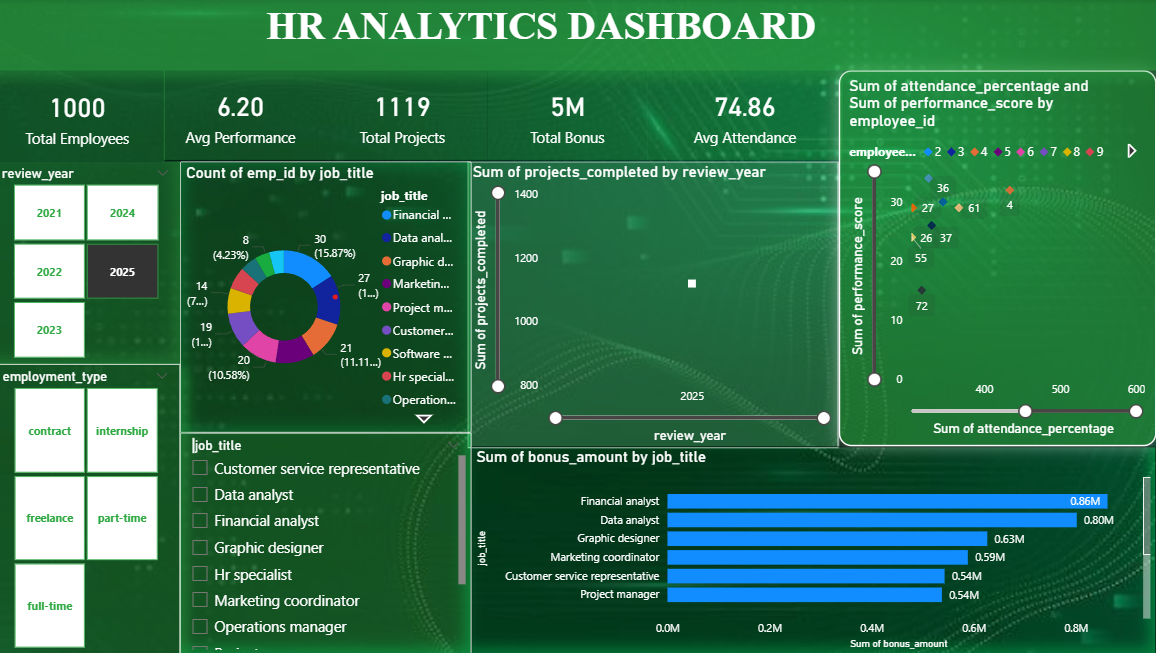

The page's visual inventory and layout, read from the dashboard file:
{"tool":"powerbi","page":{"name":"Page 1","canvas":[1280,720],"ordinal":0},"visuals":[{"type":"image","box":[9.6,0,1270.7,720.4],"z":0},{"type":"card","fields":{"Values":["employee_details.Avg Performance"]},"box":[190.7,78.2,168.8,98.8],"z":1000},{"type":"card","fields":{"Values":["employee_details.Total Projects"]},"box":[359.5,78.2,186.6,98.8],"z":2000},{"type":"card","fields":{"Values":["employee_details.Total Bonus"]},"box":[546.1,78.2,175.6,98.8],"z":3000},{"type":"card","fields":{"Values":["employee_details.Avg Attendance"]},"box":[721.8,78.2,214.1,98.8],"z":4000},{"type":"card","fields":{"Values":["employee_details.Total Employees"]},"box":[0,78.2,192.1,100.2],"z":5000},{"type":"lineChart","fields":{"Category":["performance_details.review_year"],"Y":["Sum(performance_details.projects_completed)"]},"box":[524.2,178.4,407.5,314.2],"z":6000},{"type":"clusteredBarChart","fields":{"Category":["employee_details.job_title"],"Y":["Sum(performance_details.bonus_amount)"]},"box":[528.3,491.3,752,229.2],"z":7000},{"type":"scatterChart","fields":{"X":["Sum(performance_details.attendance_percentage)"],"Y":["Sum(performance_details.performance_score)"],"Series":["employee_details.employee_id"]},"box":[931.7,78.2,348.5,413],"z":8000},{"type":"donutChart","fields":{"Category":["employee_details.job_title"],"Y":["CountNonNull(performance_details.emp_id)"]},"box":[208.6,178.4,319.7,297.8],"z":9000},{"type":"slicer","fields":{"Values":["performance_details.review_year"]},"box":[0,178.4,208.6,222.3],"z":10000},{"type":"slicer","fields":{"Values":["employee_details.job_title"]},"box":[208.6,476.2,319.7,244.3],"z":11000},{"type":"slicer","fields":{"Values":["employee_details.employment_type"]},"box":[0,400.7,208.6,319.7],"z":12000},{"type":"textbox","box":[0,0,1280.3,78.2],"z":13000}]}

Visuals, with their boxes in screenshot pixels (x1, y1, x2, y2), scaled from the page's 1280x720 canvas onto the 1156x653 screenshot:
image: box=[9, 0, 1155, 652]
card - employee_details.Avg Performance: box=[172, 71, 325, 161]
card - employee_details.Total Projects: box=[325, 71, 493, 161]
card - employee_details.Total Bonus: box=[493, 71, 652, 161]
card - employee_details.Avg Attendance: box=[652, 71, 845, 161]
card - employee_details.Total Employees: box=[0, 71, 173, 162]
lineChart - performance_details.review_year x Sum(performance_details.projects_completed): box=[473, 162, 841, 447]
clusteredBarChart - employee_details.job_title x Sum(performance_details.bonus_amount): box=[477, 446, 1155, 652]
scatterChart - Sum(performance_details.attendance_percentage) x Sum(performance_details.performance_score): box=[841, 71, 1155, 445]
donutChart - employee_details.job_title x CountNonNull(performance_details.emp_id): box=[188, 162, 477, 432]
slicer - performance_details.review_year: box=[0, 162, 188, 363]
slicer - employee_details.job_title: box=[188, 432, 477, 652]
slicer - employee_details.employment_type: box=[0, 363, 188, 652]
textbox: box=[0, 0, 1155, 71]
